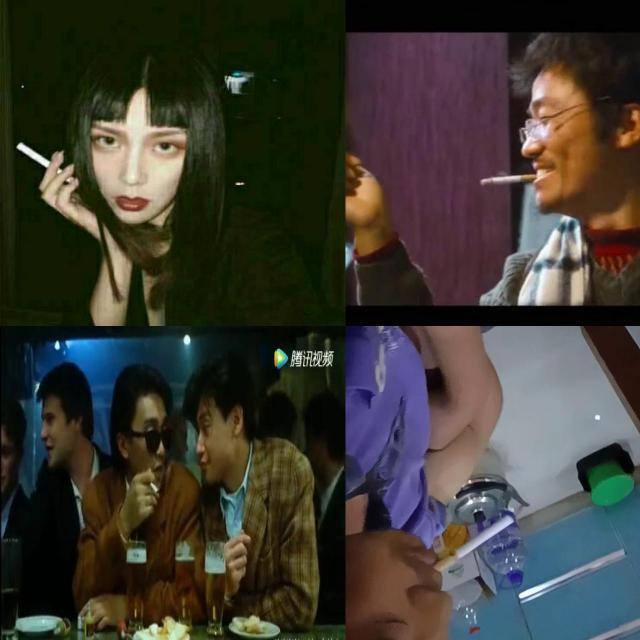cigarette: (432, 515, 518, 572), (14, 140, 74, 184), (479, 172, 538, 185), (149, 480, 160, 496)
